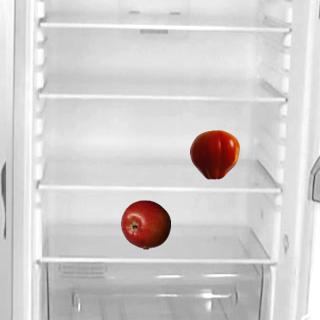Apple Braeburn: (120, 199, 170, 249)
Tomato 1: (189, 129, 239, 179)
